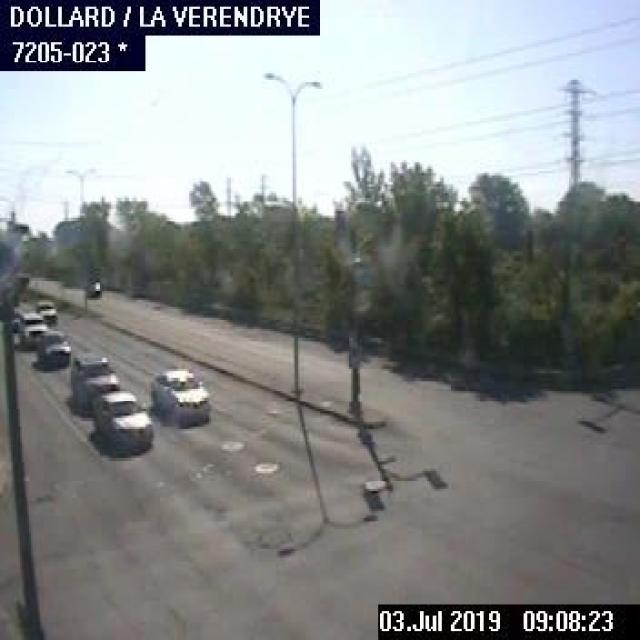vehicle: (91, 386, 155, 458), (148, 362, 210, 427), (66, 353, 120, 417), (32, 329, 75, 370), (18, 310, 50, 346), (33, 299, 59, 326), (83, 273, 102, 298)
